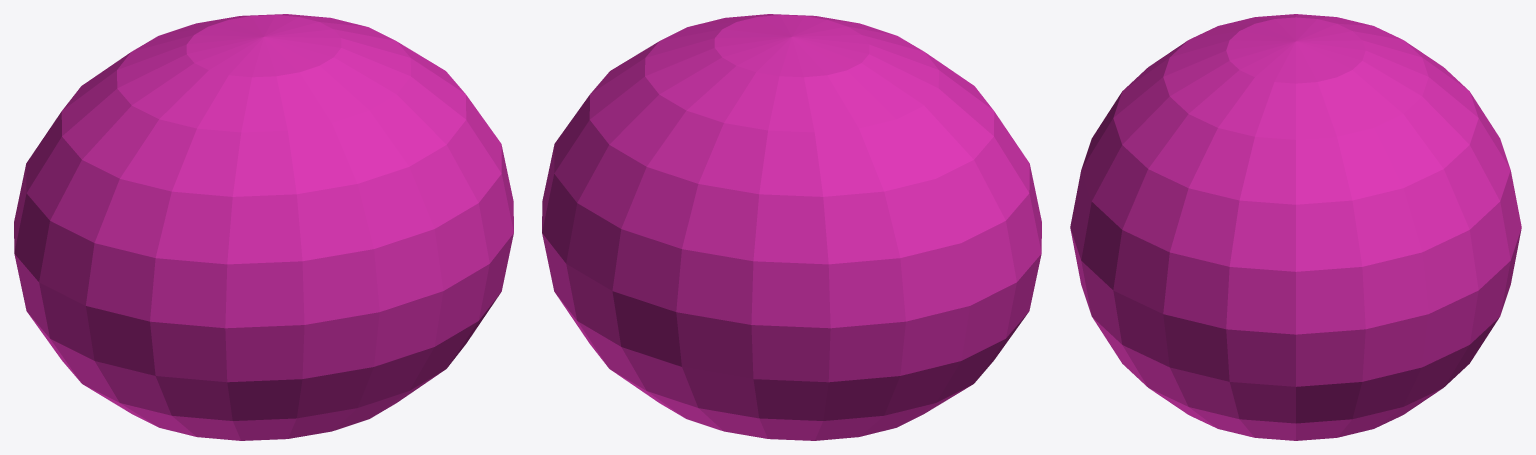
File: clownhair.glb
3 views of the same model, side by side, from view 1: azimuth 30°, elevation 25°; view 2: azimuth 150°, elevation 25°; view 3: azimuth 270°, elevation 25° (orthographic). The views are drawn at different scales.
Visible parts, largest first — view 1: Neon Clown Hair.002; view 2: Neon Clown Hair.002; view 3: Neon Clown Hair.002.
Boxes of the visible parts, bbox=[...] form: Neon Clown Hair.002: bbox=[14, 14, 513, 440]; Neon Clown Hair.002: bbox=[542, 14, 1041, 440]; Neon Clown Hair.002: bbox=[1070, 14, 1521, 440].
Size of the model in its own units: 0.6963 by 0.564 by 0.6203.
